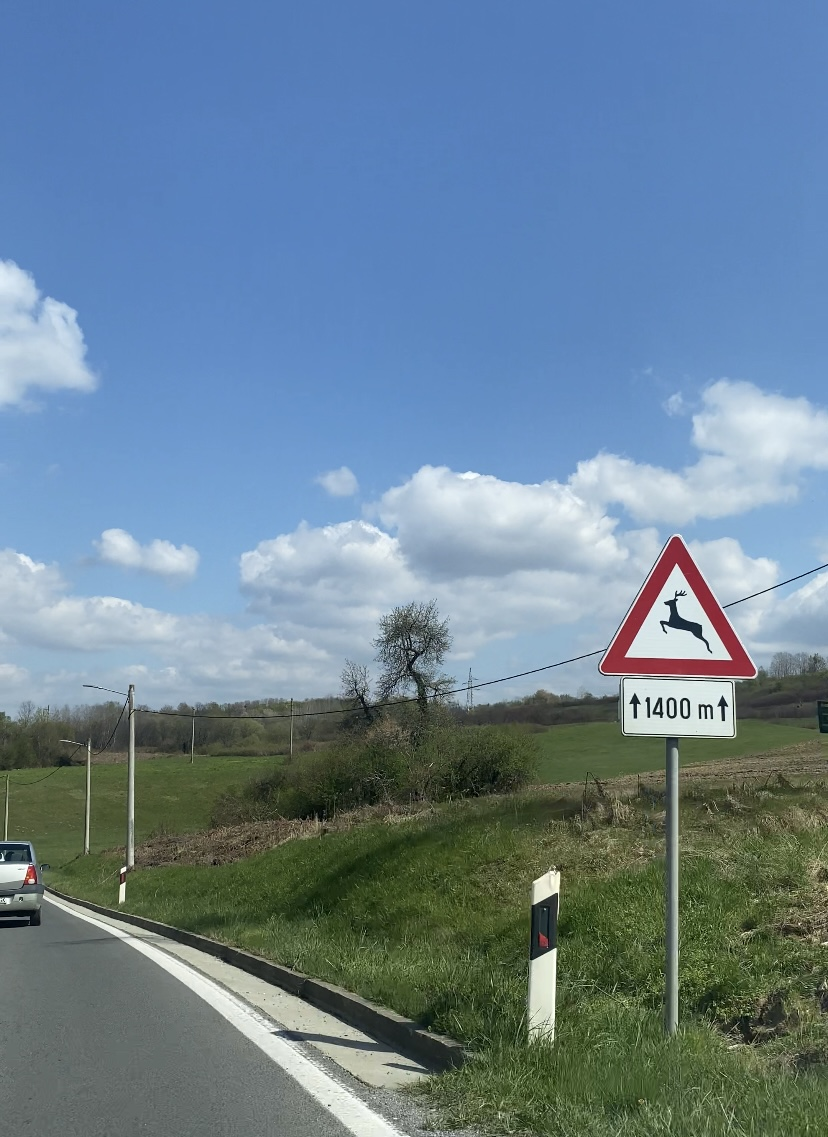Divljač na cesti: (599, 534, 757, 679)
